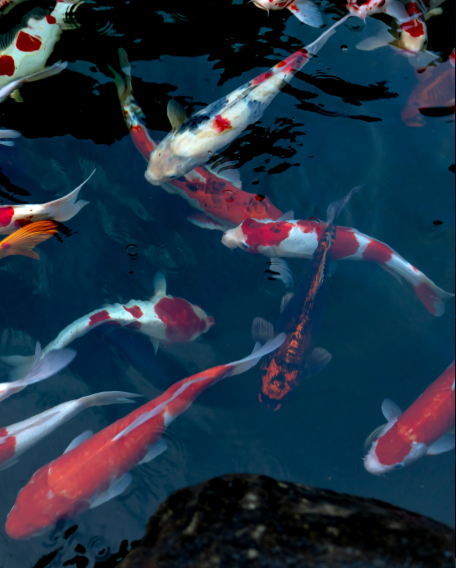fishLarge: (5, 331, 291, 542), (144, 7, 368, 189), (109, 48, 284, 229), (250, 184, 361, 416), (220, 211, 454, 316), (4, 271, 213, 379), (360, 356, 455, 480), (0, 0, 75, 103), (2, 167, 98, 233), (360, 0, 440, 66), (401, 59, 454, 130), (0, 217, 75, 261)
